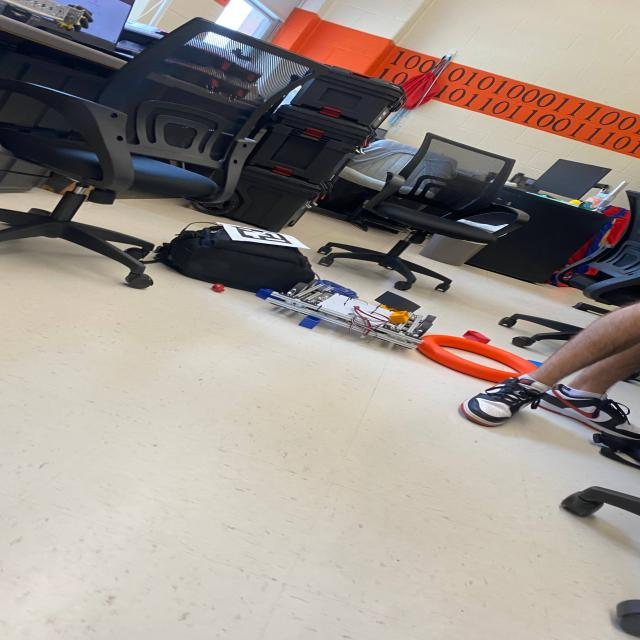blue-specimen: (299, 315, 321, 329), (256, 289, 273, 299)
red-specimen: (462, 330, 490, 344)
yellow-specimen: (390, 311, 409, 324)
